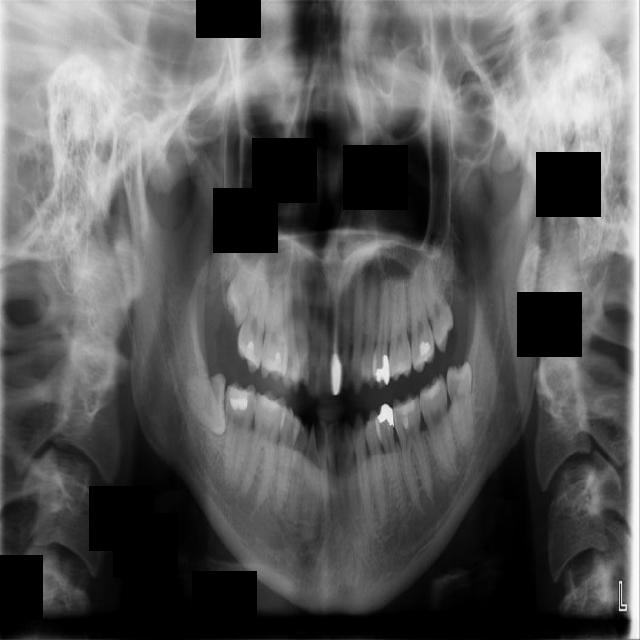3M ESPE Implant: (418, 264, 460, 355), (219, 249, 264, 328)
52: (217, 380, 263, 427), (238, 317, 264, 375), (259, 332, 289, 382), (409, 319, 437, 372), (392, 395, 424, 436), (373, 403, 396, 442), (372, 345, 391, 386), (330, 357, 343, 395), (330, 355, 331, 366), (330, 366, 330, 372)
73: (331, 298, 341, 358), (612, 591, 618, 610)
Biomet 3i Implant: (445, 362, 477, 453)
Blue Sky Bio Implant: (418, 379, 459, 480)
Caries: (234, 259, 275, 375), (407, 266, 436, 374)
Implant: (223, 380, 257, 489)
Keystone Dental Implant: (186, 373, 226, 436)
